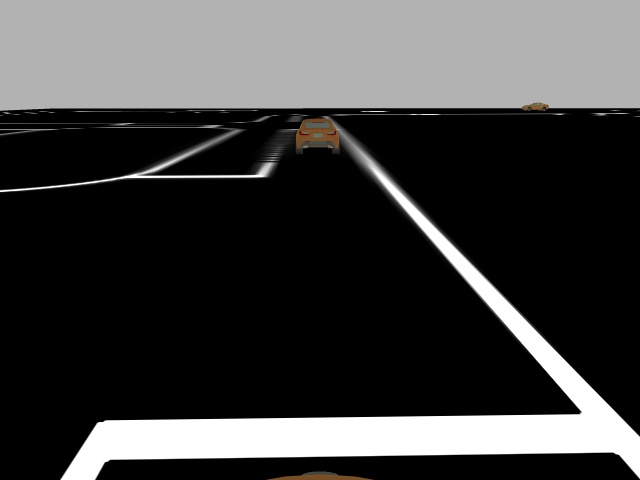obstacle_car: (292, 117, 342, 156)
